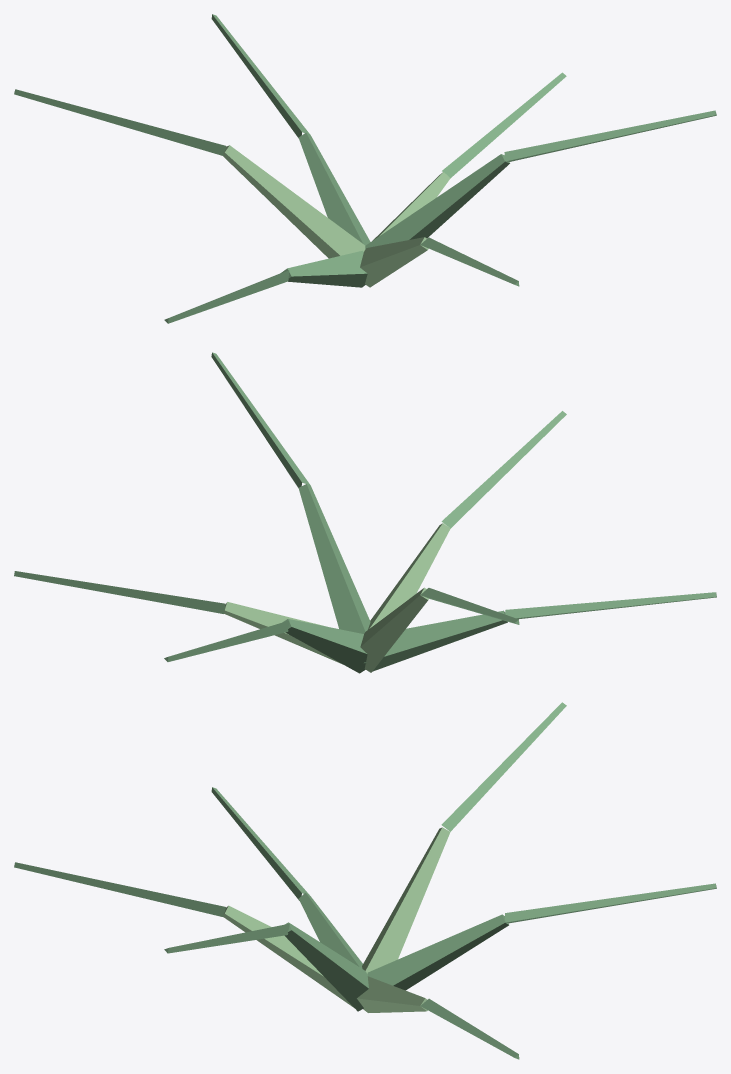
The model's file is fern_v21.glb.
3 renders of one model, top to bottom at view 1: azimuth 30°, elevation 25°; view 2: azimuth 150°, elevation 25°; view 3: azimuth 270°, elevation 25°, orthographic.
Visible parts, largest first — view 1: lod0; view 2: lod0; view 3: lod0.
Boxes of the visible parts, box(x1,y1,x2,y2) form: lod0: box(14, 14, 716, 323); lod0: box(14, 352, 716, 673); lod0: box(14, 702, 716, 1059).
Size of what is drawn, in the model's own units: 1.12 by 0.3612 by 1.24.
